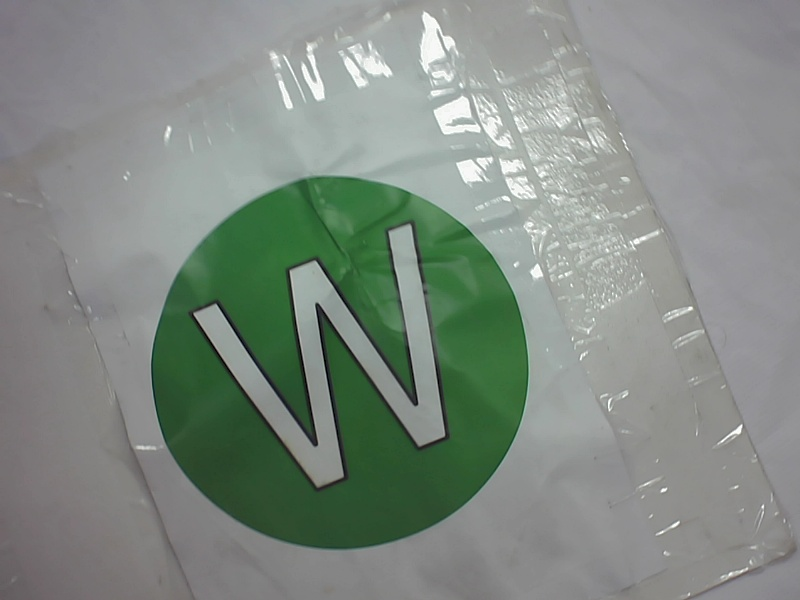areaB: (121, 169, 558, 551)
